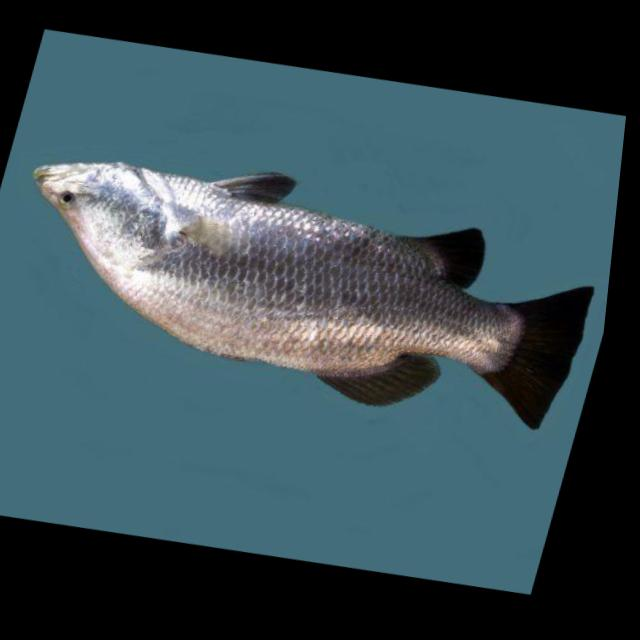Seabass: (0, 117, 626, 452)
